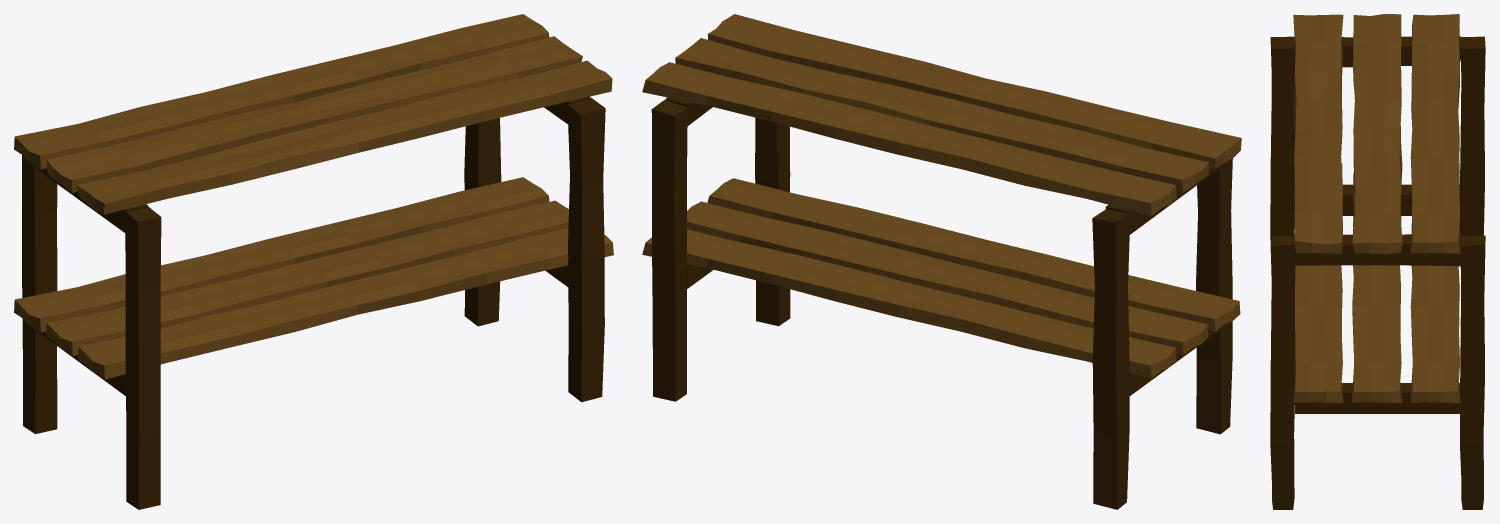
Rendered from stall_shelves.glb.
The picture shows the model from 3 angles, left to right: view 1: azimuth 30°, elevation 25°; view 2: azimuth 150°, elevation 25°; view 3: azimuth 270°, elevation 25°; orthographic projection. The views are drawn at different scales.
Parts seen in each view (by area): view 1: Cube.015, Cube.027, Cube.028, Cube.037, Cube.029, Cube.036, Cube.040, Cube.031, Cube.026, Cube.035; view 2: Cube.031, Cube.029, Cube.027, Cube.036, Cube.028, Cube.037, Cube.040, Cube.015, Cube.026, Cube.035; view 3: Cube.031, Cube.027, Cube.028, Cube.015, Cube.029, Cube.040, Cube.036, Cube.037, Cube.026, Cube.035.
Part boxes in pixels (x1,y1,x2,y2): Cube.015: (125, 98, 605, 509); Cube.027: (76, 60, 612, 214); Cube.028: (46, 36, 582, 192); Cube.037: (78, 228, 613, 379); Cube.029: (14, 14, 549, 169); Cube.036: (14, 177, 549, 332); Cube.040: (46, 200, 568, 355); Cube.031: (22, 118, 501, 433); Cube.026: (36, 96, 590, 232); Cube.035: (36, 265, 568, 395); Cube.031: (651, 100, 1130, 509); Cube.029: (642, 62, 1176, 215); Cube.027: (707, 14, 1241, 168); Cube.036: (642, 229, 1176, 378); Cube.028: (675, 38, 1209, 192); Cube.037: (707, 178, 1240, 331); Cube.040: (687, 201, 1208, 355); Cube.015: (755, 117, 1232, 434); Cube.026: (665, 97, 1217, 234); Cube.035: (687, 264, 1219, 395); Cube.031: (1460, 36, 1485, 509); Cube.027: (1293, 14, 1343, 253); Cube.028: (1352, 14, 1402, 254); Cube.015: (1270, 36, 1295, 509); Cube.029: (1410, 14, 1460, 253); Cube.040: (1352, 172, 1401, 402); Cube.036: (1410, 163, 1460, 402); Cube.037: (1293, 163, 1343, 402); Cube.026: (1293, 36, 1461, 266); Cube.035: (1295, 184, 1460, 413).
Bounding box in the file's own units: 2.31 × 1.31 × 0.9184.
